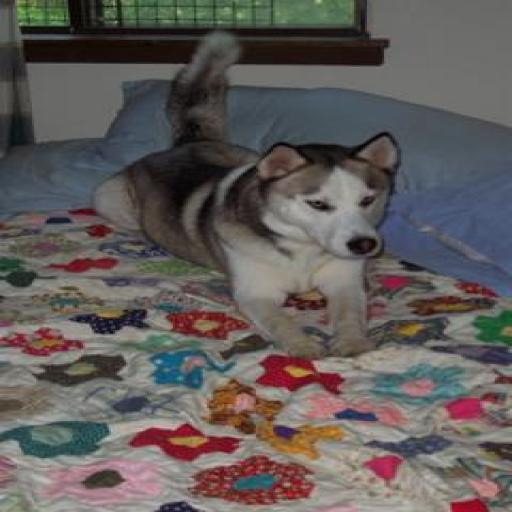dog_face: (257, 131, 402, 264)
